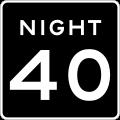Speed limit -40-: (7, 45, 113, 107)
